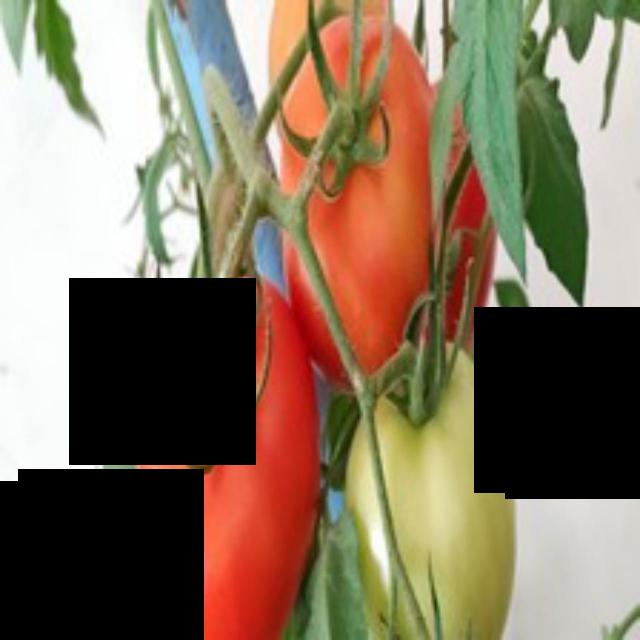tomato: (131, 271, 334, 637)
